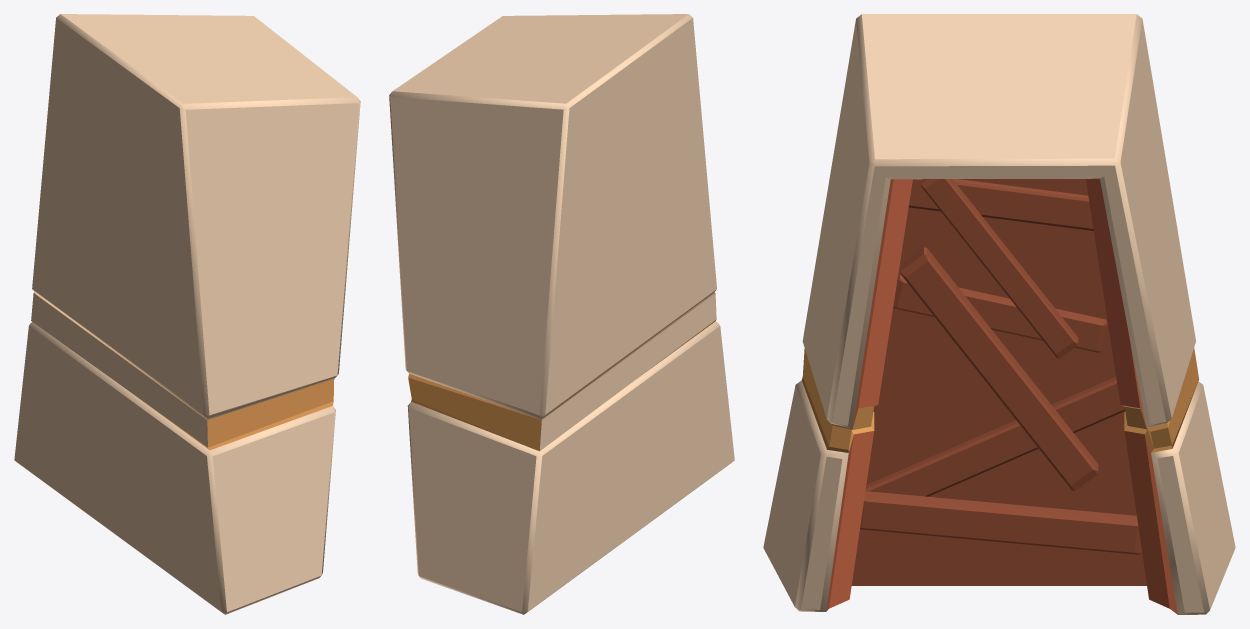
File: DoorB.fbx
3 views of the same model, side by side, from view 1: azimuth 30°, elevation 25°; view 2: azimuth 150°, elevation 25°; view 3: azimuth 270°, elevation 25° (orthographic). The views are drawn at different scales.
Parts seen in each view (by area): view 1: Door_Fake_frame; view 2: Door_Fake_frame; view 3: Door_Fake_frame, Door_fake_barrier.
Boxes of the visible parts, x1,y1,x2,y2 form: Door_Fake_frame: (14,14,360,614); Door_Fake_frame: (389,14,734,614); Door_Fake_frame: (763,14,1235,614); Door_fake_barrier: (851,179,1146,585).
Size of the model in its own units: 179 by 436 by 343.
